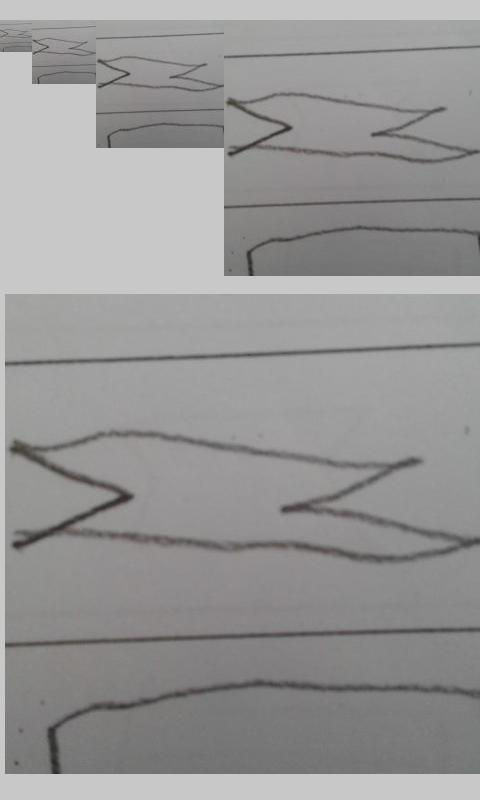edit_text: (13, 423, 468, 563), (228, 90, 479, 165), (98, 55, 220, 93), (33, 37, 92, 57), (1, 28, 30, 38)
